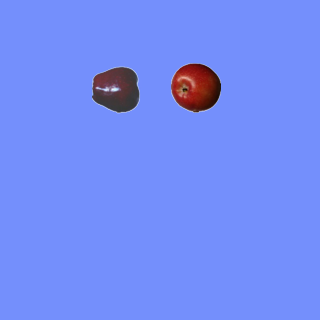Apple Braeburn: (170, 62, 220, 112)
Apple Red Delicious: (91, 64, 141, 114)
